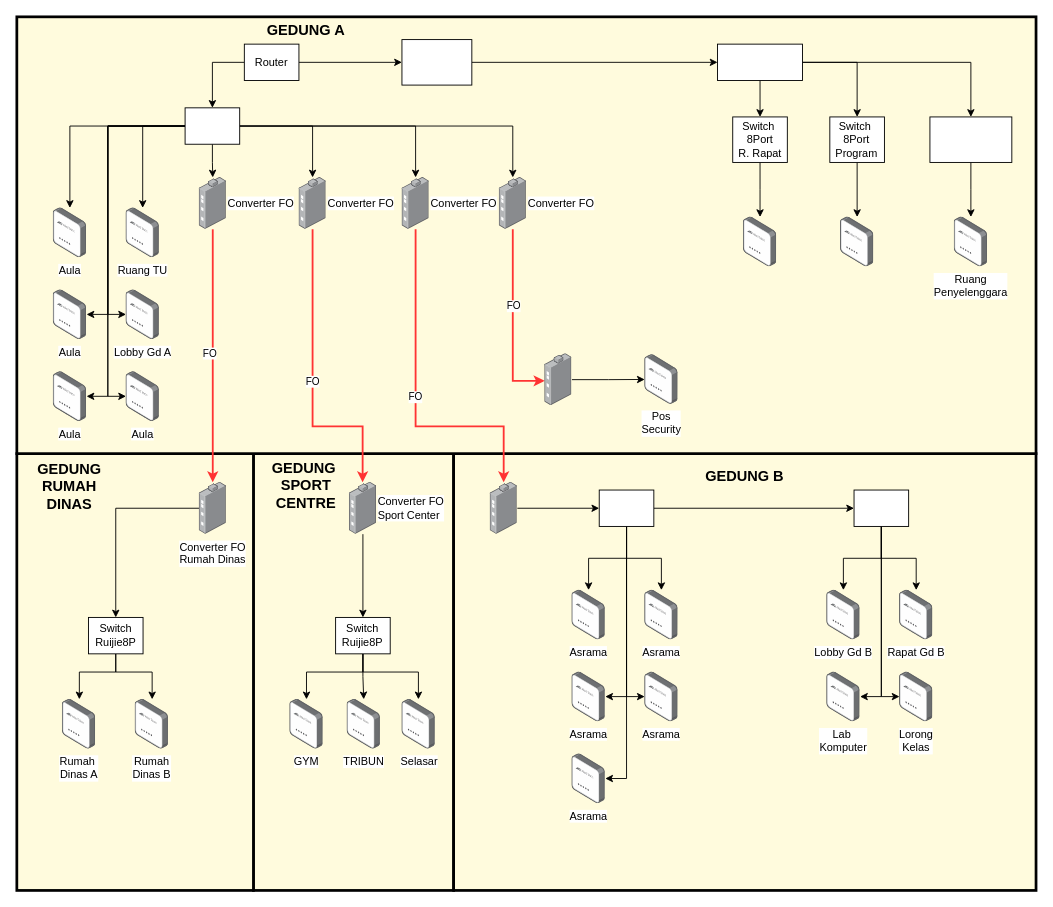
Image size: 1053x907. Some labels were removed from this diagram. The shapes that lost their labels are listed below. From the top down, each one's centre as x and y in pixels, then its label:
the point at 436,62: Switch Distribusi Milik Client
the point at 760,62: Outlet Tembok Tiap Ruangan
the point at 212,125: Switch POE 24P
the point at 970,139: Switch 8Port Penyelenggara
the point at 759,241: Ruang Rapat Gd A
the point at 856,241: Ruang Program
the point at 557,379: Converter FO Pos Security
the point at 503,508: Converter FO Gedung B
the point at 626,507: Switch POE 8P Asrama
the point at 881,507: Switch POE 8P Gd B
